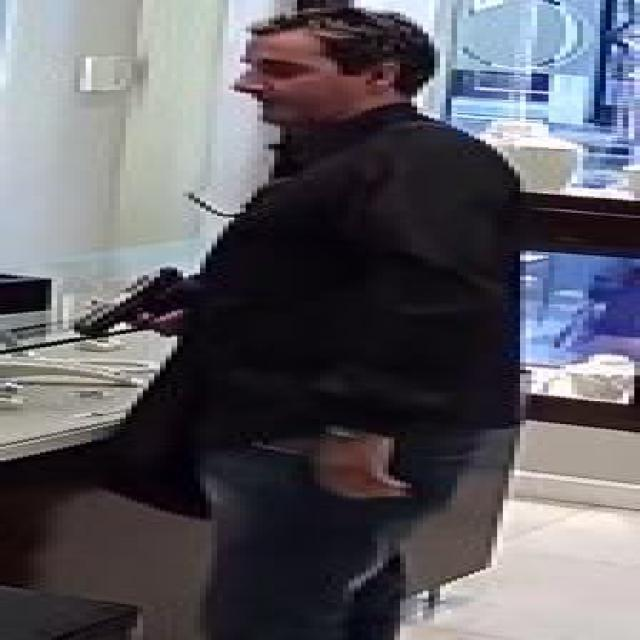gun: (68, 264, 200, 338)
